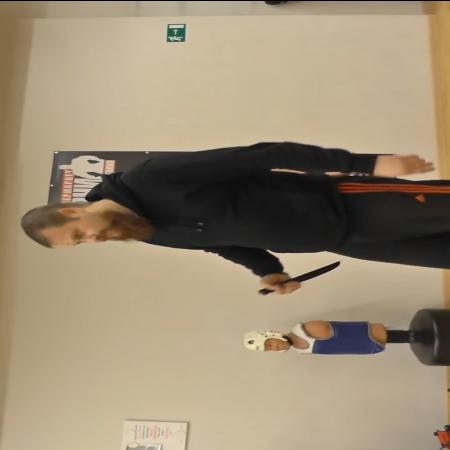long weapon: (254, 258, 344, 297)
